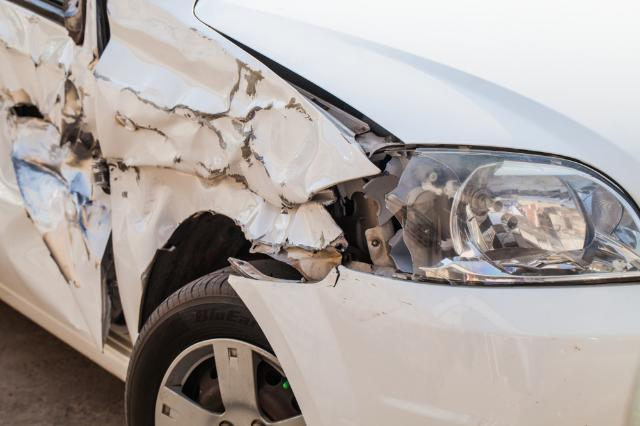crack: (7, 102, 62, 135), (325, 267, 340, 289)
dent: (88, 0, 352, 282), (0, 5, 112, 325)
dislocated part: (223, 242, 640, 426)
lamp broken: (362, 146, 640, 286)
